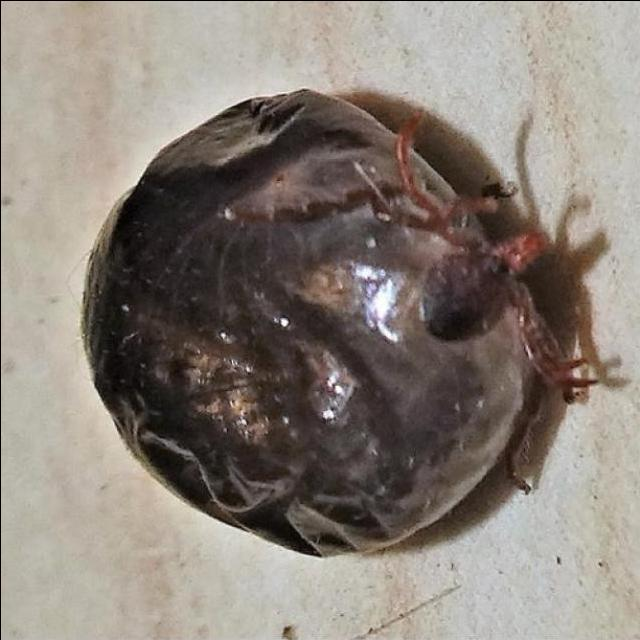Rhipicephalus Sanguineus-F-Fed: (81, 87, 607, 559)
